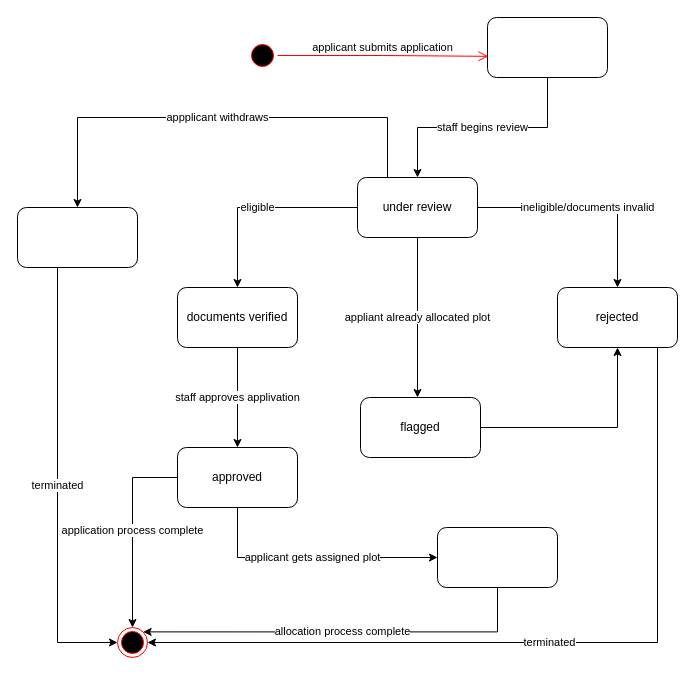
Image size: 695x675. Some labels were removed from this diagram. Each missing label, with the centre of its shape:
allocated: point (497, 557)
submitted: point (547, 47)
withdraws: point (77, 237)
